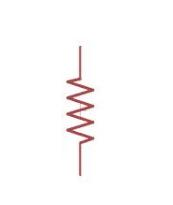resistor: (59, 65, 106, 155)
